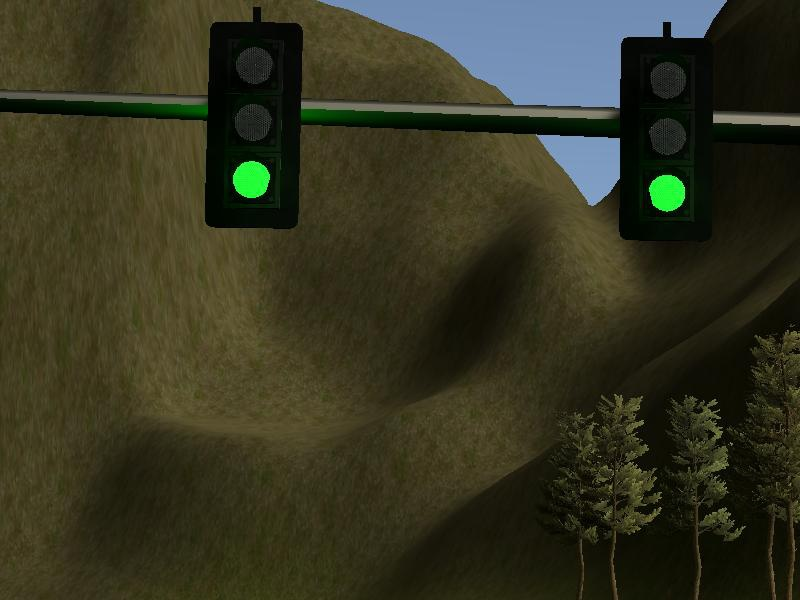Green: (202, 19, 305, 230), (613, 33, 716, 244)
